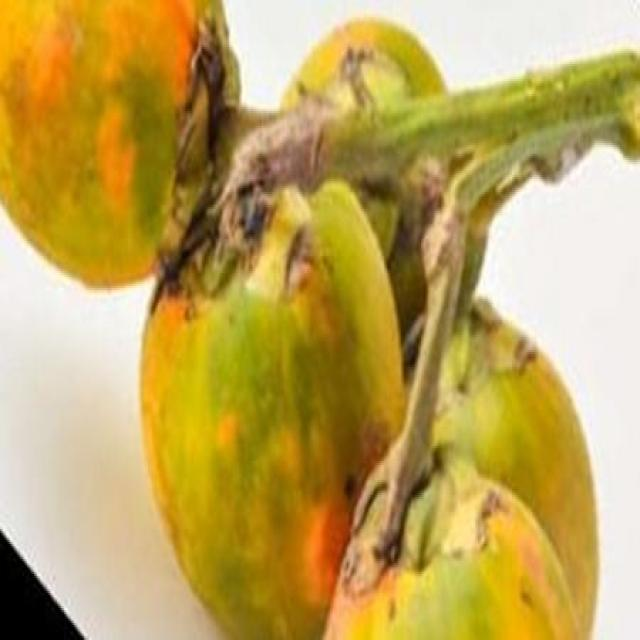good: (139, 164, 410, 638), (433, 297, 605, 638), (323, 471, 579, 638)
